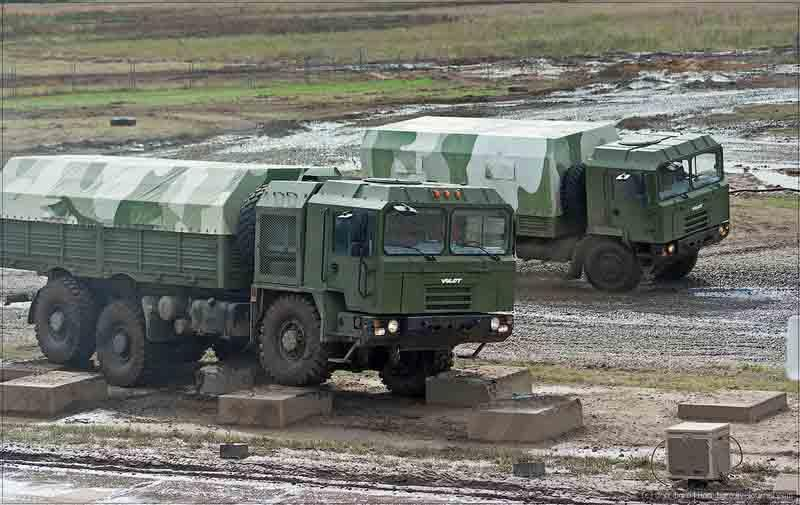truck: (6, 160, 524, 390), (356, 117, 729, 292)
